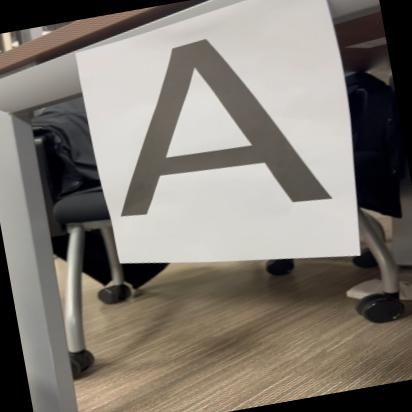seat: (79, 16, 352, 246)
